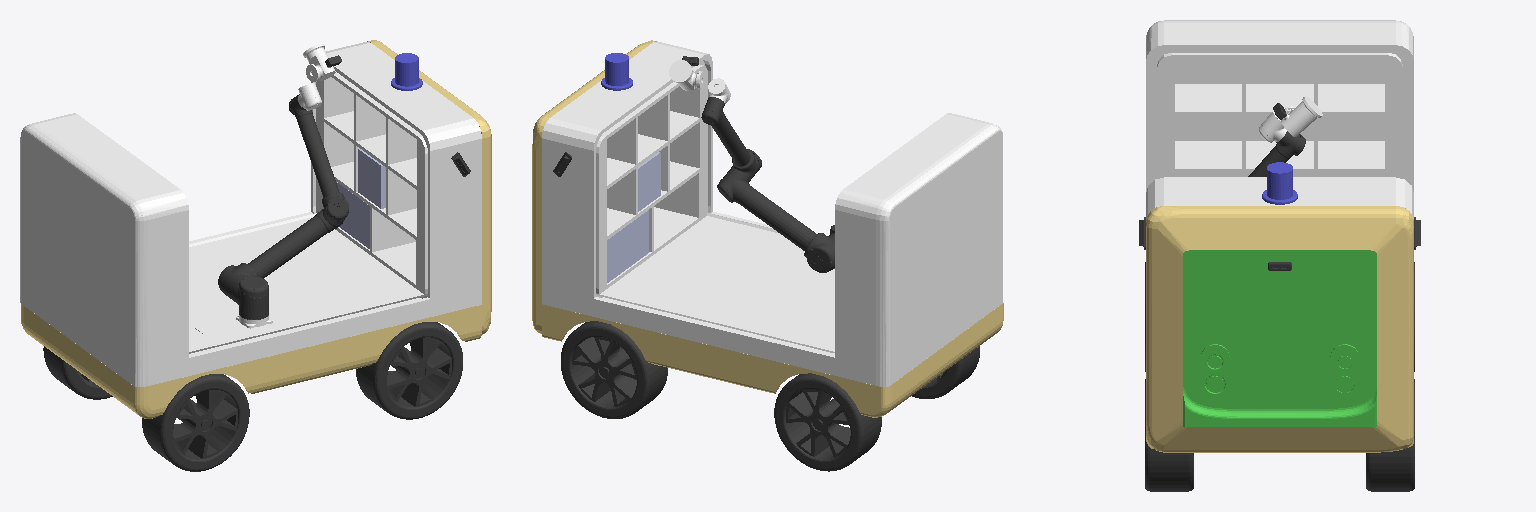
--- Render facts (derived) ---
3 views of the same robot in one strip: view 1: azimuth 30°, elevation 25°; view 2: azimuth 150°, elevation 25°; view 3: azimuth 270°, elevation 25° (orthographic).
Model ADSAssemb_v12_lightweight with 26 links and 25 joints (10 revolute, 4 continuous, 11 fixed), rooted at base_link, posed all joints at 0.
Visible links, largest first — view 1: base_link, fender, rearrightwheel, frontrightwheel, frontdash, link3, link4, link2, rearleftwheel, pkg1, pkgT2, lidar (+1 smaller); view 2: base_link, fender, frontleftwheel, rearleftwheel, link3, frontdash, pkgT2, link4, rearrightwheel, pkg1, lidar, endeffector; view 3: base_link, frontsection, frontdash, frontleftwheel, frontrightwheel, lidar, link4, endeffector, link5.
Link boxes in pixels (x1=…): base_link: x1=20, y1=42, x2=481, y2=386; fender: x1=21, y1=304, x2=481, y2=418; rearrightwheel: x1=142, y1=374, x2=249, y2=471; frontrightwheel: x1=356, y1=322, x2=462, y2=419; frontdash: x1=367, y1=40, x2=491, y2=334; link3: x1=218, y1=209, x2=343, y2=301; link4: x1=289, y1=94, x2=348, y2=223; link2: x1=233, y1=276, x2=268, y2=319; rearleftwheel: x1=43, y1=346, x2=112, y2=399; pkg1: x1=358, y1=149, x2=385, y2=208; pkgT2: x1=336, y1=182, x2=369, y2=248; lidar: x1=391, y1=53, x2=422, y2=90; base_link: x1=542, y1=41, x2=1002, y2=386; fender: x1=542, y1=303, x2=1003, y2=417; frontleftwheel: x1=561, y1=321, x2=667, y2=418; rearleftwheel: x1=774, y1=373, x2=881, y2=471; link3: x1=717, y1=168, x2=834, y2=272; frontdash: x1=532, y1=40, x2=656, y2=333; pkgT2: x1=607, y1=210, x2=648, y2=282; link4: x1=701, y1=97, x2=761, y2=181; rearrightwheel: x1=912, y1=346, x2=979, y2=398; pkg1: x1=638, y1=152, x2=660, y2=211; lidar: x1=601, y1=53, x2=632, y2=90; endeffector: x1=669, y1=60, x2=704, y2=90; base_link: x1=1146, y1=20, x2=1413, y2=219; frontsection: x1=1183, y1=250, x2=1376, y2=426; frontdash: x1=1146, y1=206, x2=1413, y2=452; frontleftwheel: x1=1366, y1=379, x2=1414, y2=491; frontrightwheel: x1=1145, y1=379, x2=1193, y2=491; lidar: x1=1262, y1=162, x2=1297, y2=204; link4: x1=1248, y1=131, x2=1305, y2=176; endeffector: x1=1281, y1=96, x2=1322, y2=136; link5: x1=1259, y1=111, x2=1286, y2=142.
Size in the robot's own frame: 2.15 by 1.26 by 1.83 metres.
Meshes: 26 distinct files referenced, 25 mesh visuals loaded (25 binary STL); not drawn: 1 (reference not matched to a file when rendering).

robot.urdf — ADSAssemb_v12_lightweight:
<?xml version="1.0" encoding="utf-8"?>
<!-- This URDF was automatically created by SolidWorks to URDF Exporter! Originally created by Stephen Brawner ([email redacted]) 
     Commit Version: 1.6.0-4-g7f85cfe  Build Version: 1.6.7995.38578
     For more information, please see http://wiki.ros.org/sw_urdf_exporter -->
<robot
  name="ADSAssemb_v12_lightweight">
  <link
    name="base_link">
    <inertial>
      <origin
        xyz="0.00267896883161542 -9.61752241291636E-05 0.261954730030994"
        rpy="0 0 0" />
      <mass
        value="12.9156269098643" />
      <inertia
        ixx="3.04196814982223"
        ixy="0.000208508466977494"
        ixz="-0.0119266922585532"
        iyy="8.81574617692616"
        iyz="-9.28591580220543E-05"
        izz="9.01306119890388" />
    </inertial>
    <visual>
      <origin
        xyz="0 0 0"
        rpy="0 0 0" />
      <geometry>
        <mesh
          filename="package://ADSAssemb_v12_lightweight/meshes/base_link.STL" />
      </geometry>
      <material
        name="">
        <color
          rgba="1 1 1 1" />
      </material>
    </visual>
    <collision>
      <origin
        xyz="0 0 0"
        rpy="0 0 0" />
      <geometry>
        <mesh
          filename="package://ADSAssemb_v12_lightweight/meshes/base_link.STL" />
      </geometry>
    </collision>
  </link>
  <link
    name="robotbase">
    <inertial>
      <origin
        xyz="0.00087337931461412 -1.74942310223747E-05 0.0175655883659414"
        rpy="0 0 0" />
      <mass
        value="0.0805247204958663" />
      <inertia
        ixx="0.000180322819963714"
        ixy="1.24613589460169E-08"
        ixz="-2.54790200977994E-08"
        iyy="0.0001838664383582"
        iyz="-1.33132482630703E-08"
        izz="0.000325091649240371" />
    </inertial>
    <visual>
      <origin
        xyz="0 0 0"
        rpy="0 0 0" />
      <geometry>
        <mesh
          filename="package://ADSAssemb_v12_lightweight/meshes/robotbase.STL" />
      </geometry>
      <material
        name="">
        <color
          rgba="1 1 1 1" />
      </material>
    </visual>
    <collision>
      <origin
        xyz="0 0 0"
        rpy="0 0 0" />
      <geometry>
        <mesh
          filename="package://ADSAssemb_v12_lightweight/meshes/robotbase.STL" />
      </geometry>
    </collision>
  </link>
  <joint
    name="robotbaseJ"
    type="fixed">
    <origin
      xyz="-0.195164641077713 -0.379884698907027 0"
      rpy="0 0 0" />
    <parent
      link="base_link" />
    <child
      link="robotbase" />
    <axis
      xyz="0 0 0" />
  </joint>
  <link
    name="link2">
    <inertial>
      <origin
        xyz="6.49180704758723E-05 0.0119758615957154 0.0783201526670301"
        rpy="0 0 0" />
      <mass
        value="3.7182094054082" />
      <inertia
        ixx="0.0142657255909075"
        ixy="-3.92019568605019E-06"
        ixz="-6.80126429261393E-06"
        iyy="0.0135481181792382"
        iyz="-0.00109592362499777"
        izz="0.0127628102876403" />
    </inertial>
    <visual>
      <origin
        xyz="0 0 0"
        rpy="0 0 0" />
      <geometry>
        <mesh
          filename="package://ADSAssemb_v12_lightweight/meshes/link2.STL" />
      </geometry>
      <material
        name="">
        <color
          rgba="0.294117647058824 0.294117647058824 0.294117647058824 1" />
      </material>
    </visual>
    <collision>
      <origin
        xyz="0 0 0"
        rpy="0 0 0" />
      <geometry>
        <mesh
          filename="package://ADSAssemb_v12_lightweight/meshes/link2.STL" />
      </geometry>
    </collision>
  </link>
  <joint
    name="link2J"
    type="revolute">
    <origin
      xyz="0 0 0.038"
      rpy="0 0 0" />
    <parent
      link="robotbase" />
    <child
      link="link2" />
    <axis
      xyz="0 0 -1" />
    <limit
      lower="-3.14"
      upper="3.14"
      effort="100"
      velocity="100" />
  </joint>
  <link
    name="link3">
    <inertial>
      <origin
        xyz="-0.172106891461319 0.0802101174901835 0.16641396590184"
        rpy="0 0 0" />
      <mass
        value="5.66483274765619" />
      <inertia
        ixx="0.0191701928641769"
        ixy="0.0028813792442428"
        ixz="0.000777239712019246"
        iyy="0.0236296511689338"
        iyz="-0.000223329307627467"
        izz="0.0234019280653295" />
    </inertial>
    <visual>
      <origin
        xyz="0 0 0"
        rpy="0 0 0" />
      <geometry>
        <mesh
          filename="package://ADSAssemb_v12_lightweight/meshes/link3.STL" />
      </geometry>
      <material
        name="">
        <color
          rgba="0.294117647058824 0.294117647058824 0.294117647058824 1" />
      </material>
    </visual>
    <collision>
      <origin
        xyz="0 0 0"
        rpy="0 0 0" />
      <geometry>
        <mesh
          filename="package://ADSAssemb_v12_lightweight/meshes/link3.STL" />
      </geometry>
    </collision>
  </link>
  <joint
    name="link3J"
    type="revolute">
    <origin
      xyz="0 0 0.08999999999999"
      rpy="1.5707963267949 0 3.13655830335947" />
    <parent
      link="link2" />
    <child
      link="link3" />
    <axis
      xyz="0 0 1" />
    <limit
      lower="-3.14"
      upper="3.14"
      effort="100"
      velocity="100" />
  </joint>
  <link
    name="link4">
    <inertial>
      <origin
        xyz="-0.179097550529596 0.0501407464908787 0.134749751070184"
        rpy="0 0 0" />
      <mass
        value="2.62363559938116" />
      <inertia
        ixx="0.00606738890018259"
        ixy="0.000809741423274313"
        ixz="0.00199151402947231"
        iyy="0.00923730599666288"
        iyz="-0.000611645520784777"
        izz="0.00804167132883016" />
    </inertial>
    <visual>
      <origin
        xyz="0 0 0"
        rpy="0 0 0" />
      <geometry>
        <mesh
          filename="package://ADSAssemb_v12_lightweight/meshes/link4.STL" />
      </geometry>
      <material
        name="">
        <color
          rgba="0.294117647058824 0.294117647058824 0.294117647058824 1" />
      </material>
    </visual>
    <collision>
      <origin
        xyz="0 0 0"
        rpy="0 0 0" />
      <geometry>
        <mesh
          filename="package://ADSAssemb_v12_lightweight/meshes/link4.STL" />
      </geometry>
    </collision>
  </link>
  <joint
    name="link4J"
    type="revolute">
    <origin
      xyz="-0.523314470651751 0.329959873083367 0.0798227083269905"
      rpy="0.347074183790574 0 -1.5707963267949" />
    <parent
      link="link3" />
    <child
      link="link4" />
    <axis
      xyz="0.599703956798518 0 0.800221946837376" />
    <limit
      lower="-3.14"
      upper="3.14"
      effort="100"
      velocity="100" />
  </joint>
  <link
    name="link5">
    <inertial>
      <origin
        xyz="-0.00935757510871427 -0.000463711111558351 0.108432060629465"
        rpy="0 0 0" />
      <mass
        value="0.921529845623198" />
      <inertia
        ixx="0.00112283111939906"
        ixy="-1.35455417019885E-05"
        ixz="0.000110171758385526"
        iyy="0.00139920024136962"
        iyz="5.37884270265833E-06"
        izz="0.00130723220032857" />
    </inertial>
    <visual>
      <origin
        xyz="0 0 0"
        rpy="0 0 0" />
      <geometry>
        <mesh
          filename="package://ADSAssemb_v12_lightweight/meshes/link5.STL" />
      </geometry>
      <material
        name="">
        <color
          rgba="1 1 1 1" />
      </material>
    </visual>
    <collision>
      <origin
        xyz="0 0 0"
        rpy="0 0 0" />
      <geometry>
        <mesh
          filename="package://ADSAssemb_v12_lightweight/meshes/link5.STL" />
      </geometry>
    </collision>
  </link>
  <joint
    name="link5J"
    type="revolute">
    <origin
      xyz="-0.44586758628649 0.127581802357824 0.334142992154841"
      rpy="2.61866703692973 0.624355966000279 -0.278695793511431" />
    <parent
      link="link4" />
    <child
      link="link5" />
    <axis
      xyz="0 0 -1" />
    <limit
      lower="-3.14"
      upper="3.14"
      effort="100"
      velocity="100" />
  </joint>
  <link
    name="link6">
    <inertial>
      <origin
        xyz="0.00226074967095263 -0.00909213102532902 0.108431334897546"
        rpy="0 0 0" />
      <mass
        value="0.921540940780998" />
      <inertia
        ixx="0.00138380959660478"
        ixy="6.48647334610227E-05"
        ixz="-2.65392524950653E-05"
        iyy="0.00113826187143618"
        iyz="0.000107065860656383"
        izz="0.00130718444270685" />
    </inertial>
    <visual>
      <origin
        xyz="0 0 0"
        rpy="0 0 0" />
      <geometry>
        <mesh
          filename="package://ADSAssemb_v12_lightweight/meshes/link6.STL" />
      </geometry>
      <material
        name="">
        <color
          rgba="0.294117647058824 0.294117647058824 0.294117647058824 1" />
      </material>
    </visual>
    <collision>
      <origin
        xyz="0 0 0"
        rpy="0 0 0" />
      <geometry>
        <mesh
          filename="package://ADSAssemb_v12_lightweight/meshes/link6.STL" />
      </geometry>
    </collision>
  </link>
  <joint
    name="link6J"
    type="revolute">
    <origin
      xyz="0 0 0.1157"
      rpy="-1.5707963267949 1.44784169852015 1.61998121806048" />
    <parent
      link="link5" />
    <child
      link="link6" />
    <axis
      xyz="0 0 -1" />
    <limit
      lower="-3.14"
      upper="3.14"
      effort="100"
      velocity="100" />
  </joint>
  <link
    name="endeffector">
    <inertial>
      <origin
        xyz="0.031392272485553 0.0308878521460962 0.136606569054224"
        rpy="0 0 0" />
      <mass
        value="0.201669718102086" />
      <inertia
        ixx="0.000580895599864408"
        ixy="-0.000173087632451694"
        ixz="-4.46812249576809E-06"
        iyy="0.000616984340291669"
        iyz="-4.40709101163154E-06"
        izz="0.000787359478209096" />
    </inertial>
    <visual>
      <origin
        xyz="0 0 0"
        rpy="0 0 0" />
      <geometry>
        <mesh
          filename="package://ADSAssemb_v12_lightweight/meshes/endeffector.STL" />
      </geometry>
      <material
        name="">
        <color
          rgba="1 1 1 1" />
      </material>
    </visual>
    <collision>
      <origin
        xyz="0 0 0"
        rpy="0 0 0" />
      <geometry>
        <mesh
          filename="package://ADSAssemb_v12_lightweight/meshes/endeffector.STL" />
      </geometry>
    </collision>
  </link>
  <joint
    name="endeffectorJ"
    type="revolute">
    <origin
      xyz="0 0 0.115699999999999"
      rpy="1.5707963267949 -0.670331391505515 0.243361241927746" />
    <parent
      link="link6" />
    <child
      link="endeffector" />
    <axis
      xyz="0 0 -1" />
    <limit
      lower="-3.14"
      upper="3.14"
      effort="100"
      velocity="100" />
  </joint>
  <link
    name="ef_camera">
    <inertial>
      <origin
        xyz="0.000209154959000257 -0.00192117508356715 -0.0182599292123931"
        rpy="0 0 0" />
      <mass
        value="0.0191475448793281" />
      <inertia
        ixx="7.58321502227667E-06"
        ixy="-8.27882198312831E-07"
        ixz="2.96383842398273E-09"
        iyy="1.50975264471533E-05"
        iyz="-2.72240857166775E-08"
        izz="1.58763522640746E-05" />
    </inertial>
    <visual>
      <origin
        xyz="0 0 0"
        rpy="0 0 0" />
      <geometry>
        <mesh
          filename="package://ADSAssemb_v12_lightweight/meshes/ef_camera.STL" />
      </geometry>
      <material
        name="">
        <color
          rgba="0.294117647058824 0.294117647058824 0.294117647058824 1" />
      </material>
    </visual>
    <collision>
      <origin
        xyz="0 0 0"
        rpy="0 0 0" />
      <geometry>
        <mesh
          filename="package://ADSAssemb_v12_lightweight/meshes/ef_camera.STL" />
      </geometry>
    </collision>
  </link>
  <joint
    name="ef_cameraJ"
    type="fixed">
    <origin
      xyz="-0.0531319379241199 0.0839300135376235 0.142200000000004"
      rpy="-1.57079632679489 1.46235516195487 -0.813969049196102" />
    <parent
      link="endeffector" />
    <child
      link="ef_camera" />
    <axis
      xyz="0 0 0" />
  </joint>
  <link
    name="lidar">
    <inertial>
      <origin
        xyz="2.22044604925031E-16 0 0.0630636454812754"
        rpy="0 0 0" />
      <mass
        value="0.124100201144077" />
      <inertia
        ixx="0.000589494704576671"
        ixy="-8.99114749749214E-35"
        ixz="1.3682084570574E-19"
        iyy="0.000589494704576671"
        iyz="3.42032018476106E-35"
        izz="0.000441360873360877" />
    </inertial>
    <visual>
      <origin
        xyz="0 0 0"
        rpy="0 0 0" />
      <geometry>
        <mesh
          filename="package://ADSAssemb_v12_lightweight/meshes/lidar.STL" />
      </geometry>
      <material
        name="">
        <color
          rgba="0.388235294117647 0.4 0.858823529411765 0.3" />
      </material>
    </visual>
    <collision>
      <origin
        xyz="0 0 0"
        rpy="0 0 0" />
      <geometry>
        <mesh
          filename="package://ADSAssemb_v12_lightweight/meshes/lidar.STL" />
      </geometry>
    </collision>
  </link>
  <joint
    name="lidarJ"
    type="fixed">
    <origin
      xyz="0.909835358922286 -0.000112443156507186 0.895"
      rpy="0 0 0" />
    <parent
      link="base_link" />
    <child
      link="lidar" />
    <axis
      xyz="0 0 0" />
  </joint>
  <link
    name="frontcamera">
    <inertial>
      <origin
        xyz="2.4980018054066E-16 -5.55111512312578E-17 0.000465035506435951"
        rpy="0 0 0" />
      <mass
        value="0.00868993861891032" />
      <inertia
        ixx="1.54944838856018E-06"
        ixy="-2.18427380502284E-21"
        ixz="3.47759421842166E-21"
        iyy="8.55825553887698E-06"
        iyz="6.94617513069525E-23"
        izz="9.38412024450808E-06" />
    </inertial>
    <visual>
      <origin
        xyz="0 0 0"
        rpy="0 0 0" />
      <geometry>
        <mesh
          filename="package://ADSAssemb_v12_lightweight/meshes/frontcamera.STL" />
      </geometry>
      <material
        name="">
        <color
          rgba="0.294117647058824 0.294117647058824 0.294117647058824 1" />
      </material>
    </visual>
    <collision>
      <origin
        xyz="0 0 0"
        rpy="0 0 0" />
      <geometry>
        <mesh
          filename="package://ADSAssemb_v12_lightweight/meshes/frontcamera.STL" />
      </geometry>
    </collision>
  </link>
  <joint
    name="frontcameraJ"
    type="fixed">
    <origin
      xyz="1.12451672844934 -0.000112443156507103 0.657651354832721"
      rpy="1.5707963267949 0 1.5707963267949" />
    <parent
      link="base_link" />
    <child
      link="frontcamera" />
    <axis
      xyz="0 0 0" />
  </joint>
  <link
    name="leftsidecamera">
    <inertial>
      <origin
        xyz="-0.0015006059584568 1.12663783944367E-05 0.000340964664842458"
        rpy="0 0 0" />
      <mass
        value="0.0135082472325153" />
      <inertia
        ixx="3.97017657484854E-06"
        ixy="-3.38615063503774E-11"
        ixz="9.71515400096785E-11"
        iyy="2.47347091924415E-05"
        iyz="-1.41319895230769E-07"
        izz="2.64532434955952E-05" />
    </inertial>
    <visual>
      <origin
        xyz="0 0 0"
        rpy="0 0 0" />
      <geometry>
        <mesh
          filename="package://ADSAssemb_v12_lightweight/meshes/leftsidecamera.STL" />
      </geometry>
      <material
        name="">
        <color
          rgba="0.294117647058824 0.294117647058824 0.294117647058824 1" />
      </material>
    </visual>
    <collision>
      <origin
        xyz="0 0 0"
        rpy="0 0 0" />
      <geometry>
        <mesh
          filename="package://ADSAssemb_v12_lightweight/meshes/leftsidecamera.STL" />
      </geometry>
    </collision>
  </link>
  <joint
    name="leftsidecameraJ"
    type="fixed">
    <origin
      xyz="0.874665728767983 0.609084906338769 0.70715594077481"
      rpy="1.5707963267949 -1.0471975511966 3.14159265358979" />
    <parent
      link="base_link" />
    <child
      link="leftsidecamera" />
    <axis
      xyz="0 0 0" />
  </joint>
  <link
    name="rightsidecamera">
    <inertial>
      <origin
        xyz="-0.00150059929544993 1.12661321407526E-05 0.000340961693837349"
        rpy="0 0 0" />
      <mass
        value="0.0135082450614885" />
      <inertia
        ixx="3.97017581288526E-06"
        ixy="-3.40050593766957E-11"
        ixz="9.54149464186529E-11"
        iyy="2.47347044654112E-05"
        iyz="-1.41319829578922E-07"
        izz="2.64532395295537E-05" />
    </inertial>
    <visual>
      <origin
        xyz="0 0 0"
        rpy="0 0 0" />
      <geometry>
        <mesh
          filename="package://ADSAssemb_v12_lightweight/meshes/rightsidecamera.STL" />
      </geometry>
      <material
        name="">
        <color
          rgba="0.294117647058824 0.294117647058824 0.294117647058824 1" />
      </material>
    </visual>
    <collision>
      <origin
        xyz="0 0 0"
        rpy="0 0 0" />
      <geometry>
        <mesh
          filename="package://ADSAssemb_v12_lightweight/meshes/rightsidecamera.STL" />
      </geometry>
    </collision>
  </link>
  <joint
    name="rightsidecameraJ"
    type="fixed">
    <origin
      xyz="0.876165738041346 -0.609309792651784 0.70455784850153"
      rpy="1.57079632679489 1.0471975511966 0" />
    <parent
      link="base_link" />
    <child
      link="rightsidecamera" />
    <axis
      xyz="0 0 0" />
  </joint>
  <link
    name="fender">
    <inertial>
      <origin
        xyz="0.0343473888464345 0.000879270445121927 0.072690028688893"
        rpy="0 0 0" />
      <mass
        value="1.73886900090587" />
      <inertia
        ixx="0.39907167955972"
        ixy="0.000288830302806219"
        ixz="-0.00131362514352071"
        iyy="0.980725956624126"
        iyz="-0.000226705283280241"
        izz="1.36699135010888" />
    </inertial>
    <visual>
      <origin
        xyz="0 0 0"
        rpy="0 0 0" />
      <geometry>
        <mesh
          filename="package://ADSAssemb_v12_lightweight/meshes/fender.STL" />
      </geometry>
      <material
        name="">
        <color
          rgba="0.968627450980392 0.87843137254902 0.6 1" />
      </material>
    </visual>
    <collision>
      <origin
        xyz="0 0 0"
        rpy="0 0 0" />
      <geometry>
        <mesh
          filename="package://ADSAssemb_v12_lightweight/meshes/fender.STL" />
      </geometry>
    </collision>
  </link>
  <joint
    name="fenderJ"
    type="fixed">
    <origin
      xyz="-0.000164641077713884 -0.000112443156510628 -0.1"
      rpy="3.14159265358979 0 0" />
    <parent
      link="base_link" />
    <child
      link="fender" />
    <axis
      xyz="0 0 0" />
  </joint>
  <link
    name="frontdash">
    <inertial>
      <origin
        xyz="1.23816009883204E-05 0.399999889839718 0.0495559270838577"
        rpy="0 0 0" />
      <mass
        value="2.04998203915906" />
      <inertia
        ixx="0.268874958959614"
        ixy="-1.70913080792638E-10"
        ixz="-6.78311744935482E-07"
        iyy="0.268875017147561"
        iyz="7.52455441452148E-09"
        izz="0.527426787953778" />
    </inertial>
    <visual>
      <origin
        xyz="0 0 0"
        rpy="0 0 0" />
      <geometry>
        <mesh
          filename="package://ADSAssemb_v12_lightweight/meshes/frontdash.STL" />
      </geometry>
      <material
        name="">
        <color
          rgba="0.968627450980392 0.87843137254902 0.6 1" />
      </material>
    </visual>
    <collision>
      <origin
        xyz="0 0 0"
        rpy="0 0 0" />
      <geometry>
        <mesh
          filename="package://ADSAssemb_v12_lightweight/meshes/frontdash.STL" />
      </geometry>
    </collision>
  </link>
  <joint
    name="frontdashJ"
    type="fixed">
    <origin
      xyz="0.999835358922287 -0.000112443156510211 -0.1"
      rpy="1.5707963267949 0 1.5707963267949" />
    <parent
      link="base_link" />
    <child
      link="frontdash" />
    <axis
      xyz="0 0 0" />
  </joint>
  <link
    name="frontsection">
    <inertial>
      <origin
        xyz="-0.009748208099012 0.071697167880574 0.00448461689764645"
        rpy="0 0 0" />
      <mass
        value="1.02190700784692" />
      <inertia
        ixx="0.0668494658912585"
        ixy="1.9372337761806E-05"
        ixz="-1.45006174712553E-06"
        iyy="0.0657309814668282"
        iyz="0.000666669719171432"
        izz="0.132475182922645" />
    </inertial>
    <visual>
      <origin
        xyz="0 0 0"
        rpy="0 0 0" />
      <geometry>
        <mesh
          filename="package://ADSAssemb_v12_lightweight/meshes/frontsection.STL" />
      </geometry>
      <material
        name="">
        <color
          rgba="0.388235294117647 0.858823529411765 0.388235294117647 0.6" />
      </material>
    </visual>
    <collision>
      <origin
        xyz="0 0 0"
        rpy="0 0 0" />
      <geometry>
        <mesh
          filename="package://ADSAssemb_v12_lightweight/meshes/frontsection.STL" />
      </geometry>
    </collision>
  </link>
  <joint
    name="frontsectionJ"
    type="fixed">
    <origin
      xyz="0.0099111692635078 0.317168369090463 0.112"
      rpy="0 0 0" />
    <parent
      link="frontdash" />
    <child
      link="frontsection" />
    <axis
      xyz="0 0 0" />
  </joint>
  <link
    name="frontleftaxle">
    <inertial>
      <origin
        xyz="2.35086812583329E-06 0.169698196210335 0.00256119151789669"
        rpy="0 0 0" />
      <mass
        value="0.0892526682073699" />
      <inertia
        ixx="0.000993551567216821"
        ixy="4.24299642966238E-08"
        ixz="-5.77071925820798E-08"
        iyy="8.21828007679809E-05"
        iyz="-3.00178801744965E-05"
        izz="0.000985627081758349" />
    </inertial>
    <visual>
      <origin
        xyz="0 0 0"
        rpy="0 0 0" />
      <geometry>
        <mesh
          filename="package://ADSAssemb_v12_lightweight/meshes/frontleftaxle.STL" />
      </geometry>
      <material
        name="">
        <color
          rgba="1 1 1 1" />
      </material>
    </visual>
    <collision>
      <origin
        xyz="0 0 0"
        rpy="0 0 0" />
      <geometry>
        <mesh
          filename="package://ADSAssemb_v12_lightweight/meshes/frontleftaxle.STL" />
      </geometry>
    </collision>
  </link>
  <joint
    name="frontleftaxleJ"
    type="revolute">
    <origin
      xyz="0.639835358922285 0.344887556843492 -0.0940000000000002"
      rpy="-1.5707963267949 0 0" />
    <parent
      link="base_link" />
    <child
      link="frontleftaxle" />
    <axis
      xyz="0 1 0" />
    <limit
      lower="-1.5"
      upper="1.5"
      effort="100"
      velocity="100" />
  </joint>
  <link
    name="frontleftwheel">
    <inertial>
      <origin
        xyz="0.114473862985988 4.01437219577083E-08 -2.03833881884385E-07"
        rpy="0 0 0" />
      <mass
        value="0.798561900795074" />
      <inertia
        ixx="0.0301385005512154"
        ixy="1.01220610649959E-11"
        ixz="2.33394343278393E-11"
        iyy="0.018990826798765"
        iyz="3.90823545401431E-11"
        izz="0.0189908273455703" />
    </inertial>
    <visual>
      <origin
        xyz="0 0 0"
        rpy="0 0 0" />
      <geometry>
        <mesh
          filename="package://ADSAssemb_v12_lightweight/meshes/frontleftwheel.STL" />
      </geometry>
      <material
        name="">
        <color
          rgba="0.294117647058824 0.294117647058824 0.294117647058824 1" />
      </material>
    </visual>
    <collision>
      <origin
        xyz="0 0 0"
        rpy="0 0 0" />
      <geometry>
        <mesh
          filename="package://ADSAssemb_v12_lightweight/meshes/frontleftwheel.STL" />
      </geometry>
    </collision>
  </link>
  <joint
    name="frontleftwheelJ"
    type="continuous">
    <origin
      xyz="0 0.3 0.0394304138974926"
      rpy="1.12073190059369 -1.5707963267949 0" />
    <parent
      link="frontleftaxle" />
    <child
      link="frontleftwheel" />
    <axis
      xyz="1 0 0" />
    <limit
      effort="10"
      velocity="1000" />
  </joint>
  <link
    name="frontrightaxle">
    <inertial>
      <origin
        xyz="2.35086812672147E-06 -0.169698196210334 -0.00256119151789706"
        rpy="0 0 0" />
      <mass
        value="0.0892526682073641" />
      <inertia
        ixx="0.000993551567216787"
        ixy="-4.24299642978994E-08"
        ixz="5.7707192582384E-08"
        iyy="8.2182800767978E-05"
        iyz="-3.00178801744981E-05"
        izz="0.000985627081758313" />
    </inertial>
    <visual>
      <origin
        xyz="0 0 0"
        rpy="0 0 0" />
      <geometry>
        <mesh
          filename="package://ADSAssemb_v12_lightweight/meshes/frontrightaxle.STL" />
      </geometry>
      <material
        name="">
        <color
          rgba="1 1 1 1" />
      </material>
    </visual>
    <collision>
      <origin
        xyz="0 0 0"
        rpy="0 0 0" />
      <geometry>
        <mesh
          filename="package://ADSAssemb_v12_lightweight/meshes/frontrightaxle.STL" />
      </geometry>
    </collision>
  </link>
  <joint
    name="frontrightaxleJ"
    type="revolute">
    <origin
      xyz="0.639835358922287 -0.345112443156508 -0.0939999999999998"
      rpy="1.5707963267949 0 3.14159265358979" />
    <parent
      link="base_link" />
    <child
      link="frontrightaxle" />
    <axis
      xyz="0 1 0" />
    <limit
      lower="-1.5"
      upper="1.5"
      effort="100"
      velocity="100" />
  </joint>
  <link
    name="frontrightwheel">
    <inertial>
      <origin
        xyz="0.114474043520639 1.16848695497218E-07 -2.97726304054891E-07"
        rpy="0 0 0" />
      <mass
        value="0.79855508316406" />
      <inertia
        ixx="0.0301385005512141"
        ixy="2.05944993209584E-12"
        ixz="-2.53563969889581E-11"
        iyy="0.018990826887521"
        iyz="-2.05383265082515E-10"
        izz="0.0189908272568125" />
    </inertial>
    <visual>
      <origin
        xyz="0 0 0"
        rpy="0 0 0" />
      <geometry>
        <mesh
          filename="package://ADSAssemb_v12_lightweight/meshes/frontrightwheel.STL" />
      </geometry>
      <material
        name="">
        <color
          rgba="0.294117647058824 0.294117647058824 0.294117647058824 1" />
      </material>
    </visual>
    <collision>
      <origin
        xyz="0 0 0"
        rpy="0 0 0" />
      <geometry>
        <mesh
          filename="package://ADSAssemb_v12_lightweight/meshes/frontrightwheel.STL" />
      </geometry>
    </collision>
  </link>
  <joint
    name="frontrightwheelJ"
    type="continuous">
    <origin
      xyz="0 -0.3 -0.0394304138974929"
      rpy="0.186425012387561 1.5707963267949 0" />
    <parent
      link="frontrightaxle" />
    <child
      link="frontrightwheel" />
    <axis
      xyz="1 0 0" />
    <limit
      effort="10"
      velocity="1000" />
  </joint>
  <link
    name="rearleftaxle">
    <inertial>
      <origin
        xyz="2.35086812638841E-06 0.169698196210335 0.00256119151789735"
        rpy="0 0 0" />
      <mass
        value="0.0892526682073664" />
      <inertia
        ixx="0.000993551567216794"
        ixy="4.24299643020811E-08"
        ixz="-5.77071925823229E-08"
        iyy="8.21828007679784E-05"
        iyz="-3.00178801744979E-05"
        izz="0.000985627081758321" />
    </inertial>
    <visual>
      <origin
        xyz="0 0 0"
        rpy="0 0 0" />
      <geometry>
        <mesh
          filename="package://ADSAssemb_v12_lightweight/meshes/rearleftaxle.STL" />
      </geometry>
      <material
        name="">
        <color
          rgba="1 1 1 1" />
      </material>
    </visual>
    <collision>
      <origin
        xyz="0 0 0"
        rpy="0 0 0" />
      <geometry>
        <mesh
          filename="package://ADSAssemb_v12_lightweight/meshes/rearleftaxle.STL" />
      </geometry>
    </collision>
  </link>
  <joint
    name="rearleftaxleJ"
    type="revolute">
    <origin
      xyz="-0.600164641077715 0.344887556843487 -0.094"
      rpy="-1.5707963267949 0 0" />
    <parent
      link="base_link" />
    <child
      link="rearleftaxle" />
    <axis
      xyz="0 1 0" />
    <limit
      lower="-1.5"
      upper="1.5"
      effort="100"
      velocity="100" />
  </joint>
  <link
    name="rearleftwheel">
    <inertial>
      <origin
        xyz="0.114474043515976 3.02608848645747E-07 2.87576701341052E-08"
        rpy="0 0 0" />
      <mass
        value="0.798555083174921" />
      <inertia
        ixx="0.0301385005512152"
        ixy="2.05947709155609E-12"
        ixz="-2.53564064956241E-11"
        iyy="0.0189908268875215"
        iyz="-2.05383295657016E-10"
        izz="0.0189908272568135" />
    </inertial>
    <visual>
      <origin
        xyz="0 0 0"
        rpy="0 0 0" />
      <geometry>
        <mesh
          filename="package://ADSAssemb_v12_lightweight/meshes/rearleftwheel.STL" />
      </geometry>
      <material
        name="">
        <color
          rgba="0.294117647058824 0.294117647058824 0.294117647058824 1" />
      </material>
    </visual>
    <collision>
      <origin
        xyz="0 0 0"
        rpy="0 0 0" />
      <geometry>
        <mesh
          filename="package://ADSAssemb_v12_lightweight/meshes/rearleftwheel.STL" />
      </geometry>
    </collision>
  </link>
  <joint
    name="rearleftwheelJ"
    type="continuous">
    <origin
      xyz="0 0.3 0.039430413897493"
      rpy="1.44787673373564 -1.5707963267949 0" />
    <parent
      link="rearleftaxle" />
    <child
      link="rearleftwheel" />
    <axis
      xyz="1 0 0" />
    <limit
      effort="10"
      velocity="1000" />
  </joint>
  <link
    name="rearrightaxle">
    <inertial>
      <origin
        xyz="2.35086812594432E-06 -0.169698196210335 -0.00256119151789616"
        rpy="0 0 0" />
      <mass
        value="0.089252668207366" />
      <inertia
        ixx="0.000993551567216806"
        ixy="-4.24299642997305E-08"
        ixz="5.77071925834722E-08"
        iyy="8.21828007679797E-05"
        iyz="-3.00178801744968E-05"
        izz="0.000985627081758333" />
    </inertial>
    <visual>
      <origin
        xyz="0 0 0"
        rpy="0 0 0" />
      <geometry>
        <mesh
          filename="package://ADSAssemb_v12_lightweight/meshes/rearrightaxle.STL" />
      </geometry>
      <material
        name="">
        <color
          rgba="1 1 1 1" />
      </material>
    </visual>
    <collision>
      <origin
        xyz="0 0 0"
        rpy="0 0 0" />
      <geometry>
        <mesh
          filename="package://ADSAssemb_v12_lightweight/meshes/rearrightaxle.STL" />
      </geometry>
    </collision>
  </link>
  <joint
    name="rearrightaxleJ"
    type="revolute">
    <origin
      xyz="-0.600164641077713 -0.345112443156513 -0.094"
      rpy="1.5707963267949 0 3.14159265358979" />
    <parent
      link="base_link" />
    <child
      link="rearrightaxle" />
    <axis
      xyz="0 1 0" />
    <limit
      lower="-1.5"
      upper="1.5"
      effort="100"
      velocity="100" />
  </joint>
  <link
    name="rearrightwheel">
    <inertial>
      <origin
        xyz="0.11447396607814 3.21161142124993E-09 2.53649400594469E-07"
        rpy="0 0 0" />
      <mass
        value="0.798558339436991" />
      <inertia
        ixx="0.0301385005512153"
        ixy="2.0594408200647E-12"
        ixz="-2.53564084343584E-11"
        iyy="0.0189908268875215"
        iyz="-2.0538317791266E-10"
        izz="0.0189908272568137" />
    </inertial>
    <visual>
      <origin
        xyz="0 0 0"
        rpy="0 0 0" />
      <geometry>
        <mesh
          filename="package://ADSAssemb_v12_lightweight/meshes/rearrightwheel.STL" />
      </geometry>
      <material
        name="">
        <color
          rgba="0.294117647058824 0.294117647058824 0.294117647058824 1" />
      </material>
    </visual>
    <collision>
      <origin
        xyz="0 0 0"
        rpy="0 0 0" />
      <geometry>
        <mesh
          filename="package://ADSAssemb_v12_lightweight/meshes/rearrightwheel.STL" />
      </geometry>
    </collision>
  </link>
  <joint
    name="rearrightwheelJ"
    type="continuous">
    <origin
      xyz="0 -0.3 -0.039430413897493"
      rpy="0.212725672040108 1.5707963267949 0" />
    <parent
      link="rearrightaxle" />
    <child
      link="rearrightwheel" />
    <axis
      xyz="1 0 0" />
    <limit
      effort="10"
      velocity="1000" />
  </joint>
  <link
    name="pkg1">
    <inertial>
      <origin
        xyz="0.14 0 -2.60208521396521E-18"
        rpy="0 0 0" />
      <mass
        value="15.456" />
      <inertia
        ixx="0.142324"
        ixy="7.0838528903557E-18"
        ixz="3.46944695195361E-18"
        iyy="0.175168"
        iyz="-2.01302962337938E-18"
        izz="0.1691144" />
    </inertial>
    <visual>
      <origin
        xyz="0 0 0"
        rpy="0 0 0" />
      <geometry>
        <mesh
          filename="package://ADSAssemb_v12_lightweight/meshes/pkg1.STL" />
      </geometry>
      <material
        name="">
        <color
          rgba="0.792156862745098 0.819607843137255 0.933333333333333 1" />
      </material>
    </visual>
    <collision>
      <origin
        xyz="0 0 0"
        rpy="0 0 0" />
      <geometry>
        <mesh
          filename="package://ADSAssemb_v12_lightweight/meshes/pkg1.STL" />
      </geometry>
    </collision>
  </link>
  <joint
    name="pkg1J"
    type="fixed">
    <origin
      xyz="0.709835358922287 0.0248875568434898 0.41"
      rpy="0 0 0" />
    <parent
      link="base_link" />
    <child
      link="pkg1" />
    <axis
      xyz="0 0 0" />
  </joint>
  <link
    name="pkgT2">
    <inertial>
      <origin
        xyz="0.14 0 1.11022302462516E-16"
        rpy="0 0 0" />
      <mass
        value="28.224" />
      <inertia
        ixx="0.550368"
        ixy="-2.42861286636753E-17"
        ixz="2.08166817117217E-17"
        iyy="0.319872"
        iyz="1.61907524424502E-17"
        izz="0.5992896" />
    </inertial>
    <visual>
      <origin
        xyz="0 0 0"
        rpy="0 0 0" />
      <geometry>
        <mesh
          filename="package://ADSAssemb_v12_lightweight/meshes/pkgT2.STL" />
      </geometry>
      <material
        name="">
        <color
          rgba="0.792156862745098 0.819607843137255 0.933333333333333 1" />
      </material>
    </visual>
    <collision>
      <origin
        xyz="0 0 0"
        rpy="0 0 0" />
      <geometry>
        <mesh
          filename="package://ADSAssemb_v12_lightweight/meshes/pkgT2.STL" />
      </geometry>
    </collision>
  </link>
  <joint
    name="pkgT2J"
    type="fixed">
    <origin
      xyz="0.709835358922287 0.23488755684349 0.14"
      rpy="0 0 0" />
    <parent
      link="base_link" />
    <child
      link="pkgT2" />
    <axis
      xyz="0 0 0" />
  </joint>
</robot>
